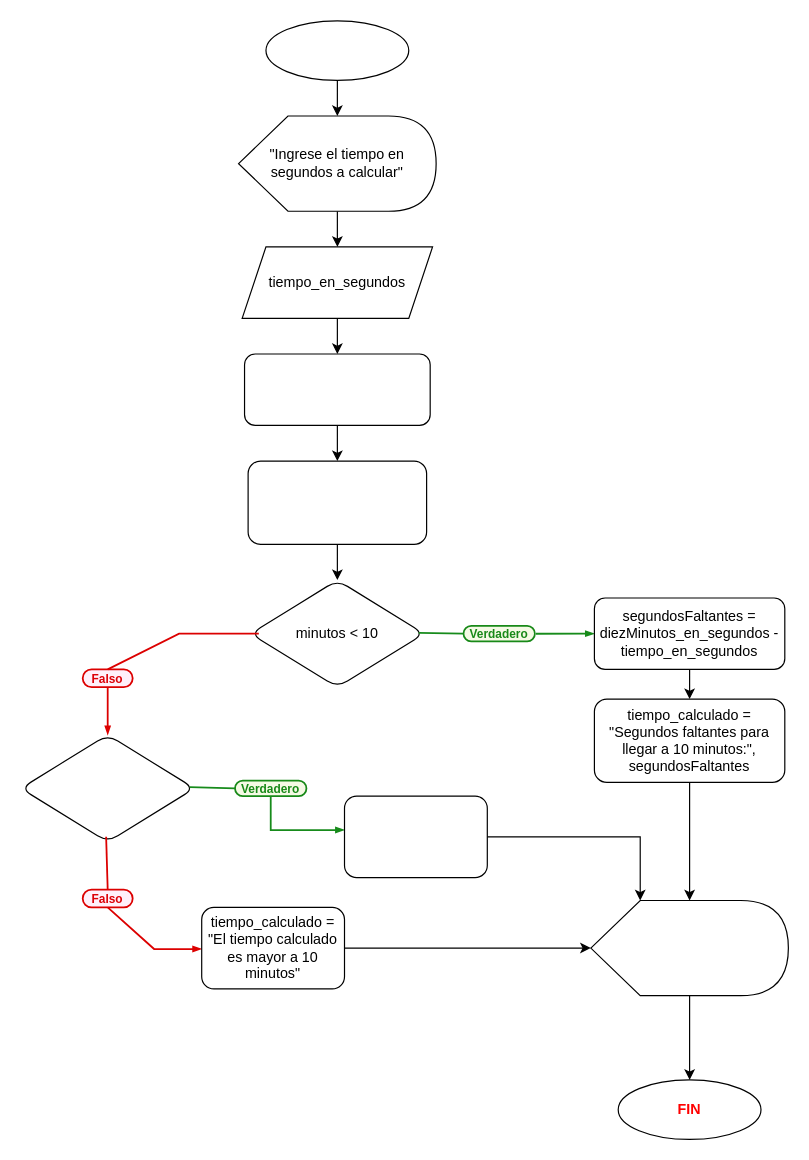
Some shapes in this 809 by 1160 pixel diagram are drawn without their labels. Each missing label, with the centre of its shape:
Convertir segundos a minutos: the point at 336,389
INICIO: the point at 337,50
minutos = tiempo_en_segundos / 60: the point at 337,502
minutos == 10: the point at 107,788
Mostrar tiempo_calculado: the point at 689,947
tiempo_calculado = "El tiempo en segundos es igual a 10 minutos": the point at 415,836
